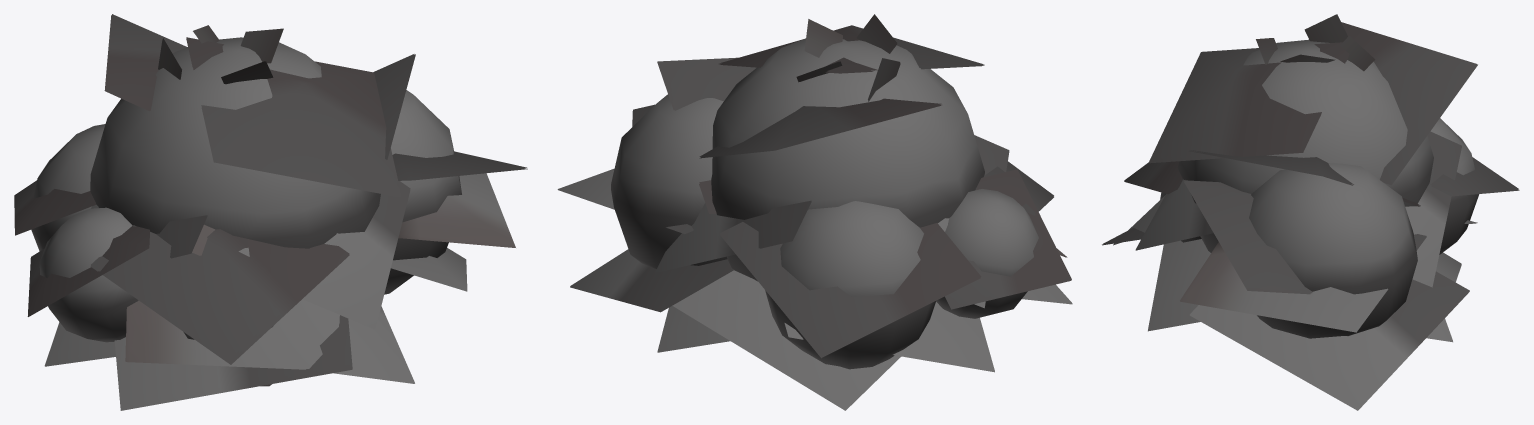
File: guanmu_01.FBX
3 views of the same model, side by side, from view 1: azimuth 30°, elevation 25°; view 2: azimuth 150°, elevation 25°; view 3: azimuth 270°, elevation 25° (orthographic). The views are drawn at different scales.
Parts seen in each view (by area): view 1: guanmu_01; view 2: guanmu_01; view 3: guanmu_01.
Part boxes in pixels (left/top/right/bottom): guanmu_01: left=14, top=14, right=527, bottom=410; guanmu_01: left=557, top=14, right=1072, bottom=410; guanmu_01: left=1102, top=14, right=1519, bottom=410.
Size of the model in its own units: 3.78 by 2.48 by 3.21.
